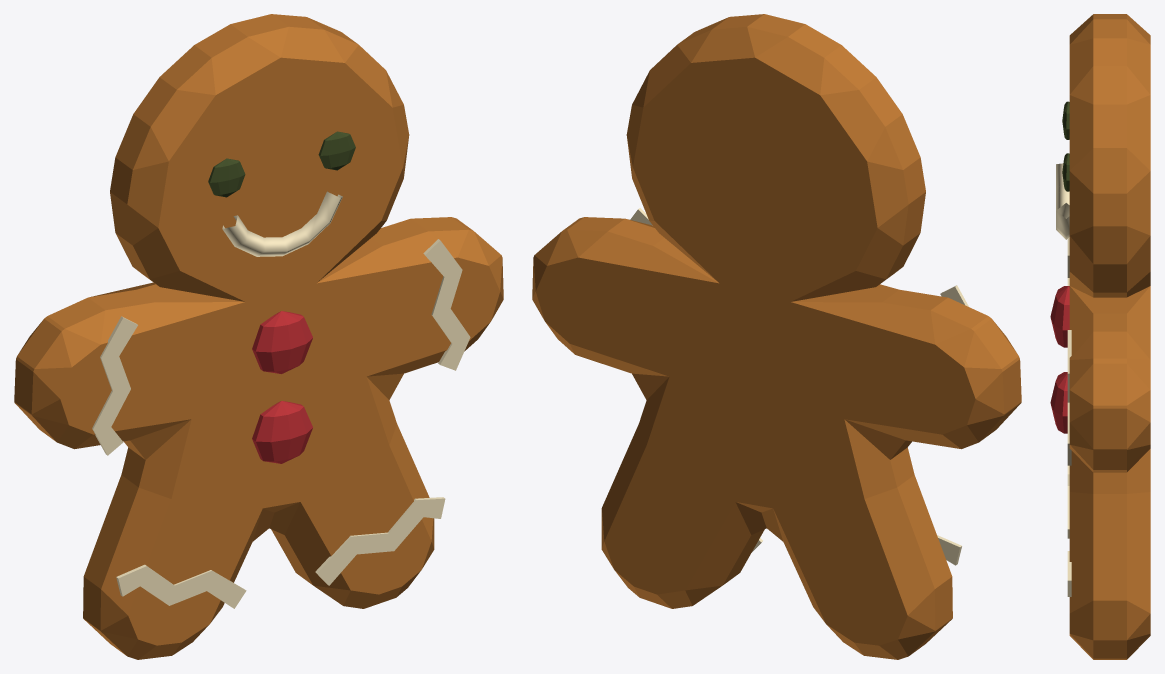
Rendered from 15 Gingerbread Man.glb.
3 renders of one model, left to right at view 1: azimuth 30°, elevation 25°; view 2: azimuth 150°, elevation 25°; view 3: azimuth 270°, elevation 25°, orthographic. The views are drawn at different scales.
Visible parts, largest first — view 1: Wavy ankle icing.001, Vanilla smiling mouth; view 2: Wavy ankle icing.001; view 3: Wavy ankle icing.001, Vanilla smiling mouth.
Boxes of the visible parts, x1,y1,x2,y2 form: Wavy ankle icing.001: (14,14,503,659); Vanilla smiling mouth: (222,191,342,256); Wavy ankle icing.001: (532,14,1021,659); Wavy ankle icing.001: (1050,14,1150,659); Vanilla smiling mouth: (1056,163,1069,239).
Size of the model in its own units: 5.94 by 7.22 by 1.14.
